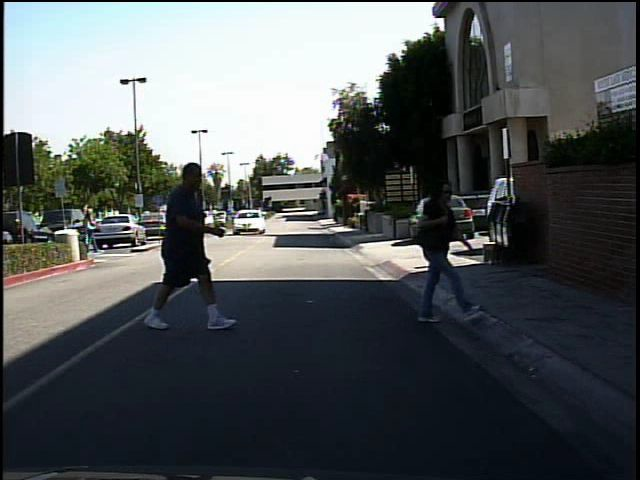person: (135, 157, 236, 333), (403, 166, 479, 325), (78, 203, 99, 259)
